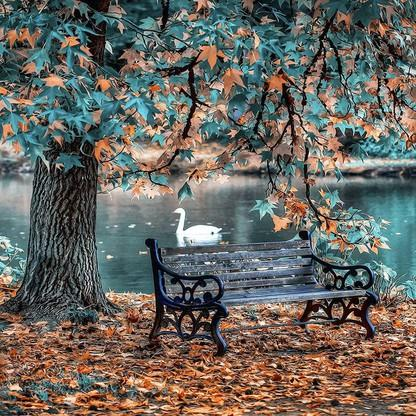obstacle: (133, 231, 384, 352)
